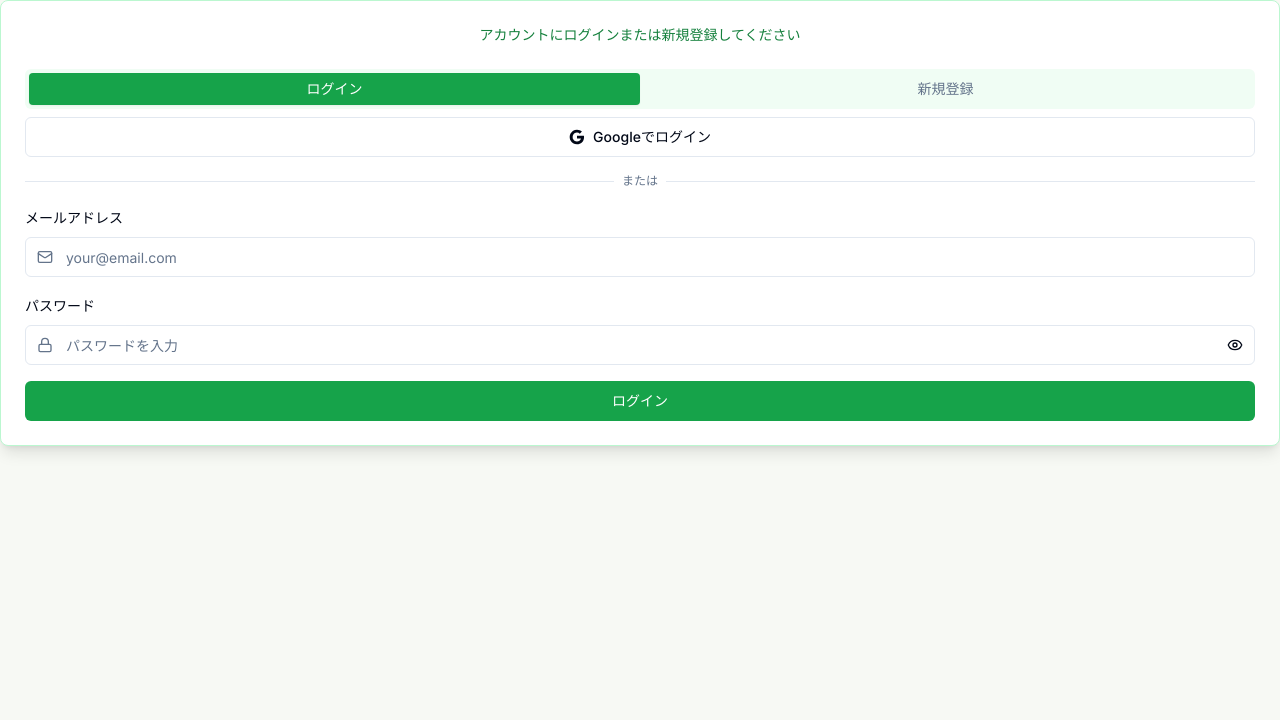
Scenario: 認証タブ詳細テスト › パスワード表示切り替えのテスト › 新規登録フォームのパスワード確認表示切り替えが正常に動作
The image size is (1280, 720).
Click the tab "新規登録". click: (946, 89)
box: 640,73 -> 1251,105
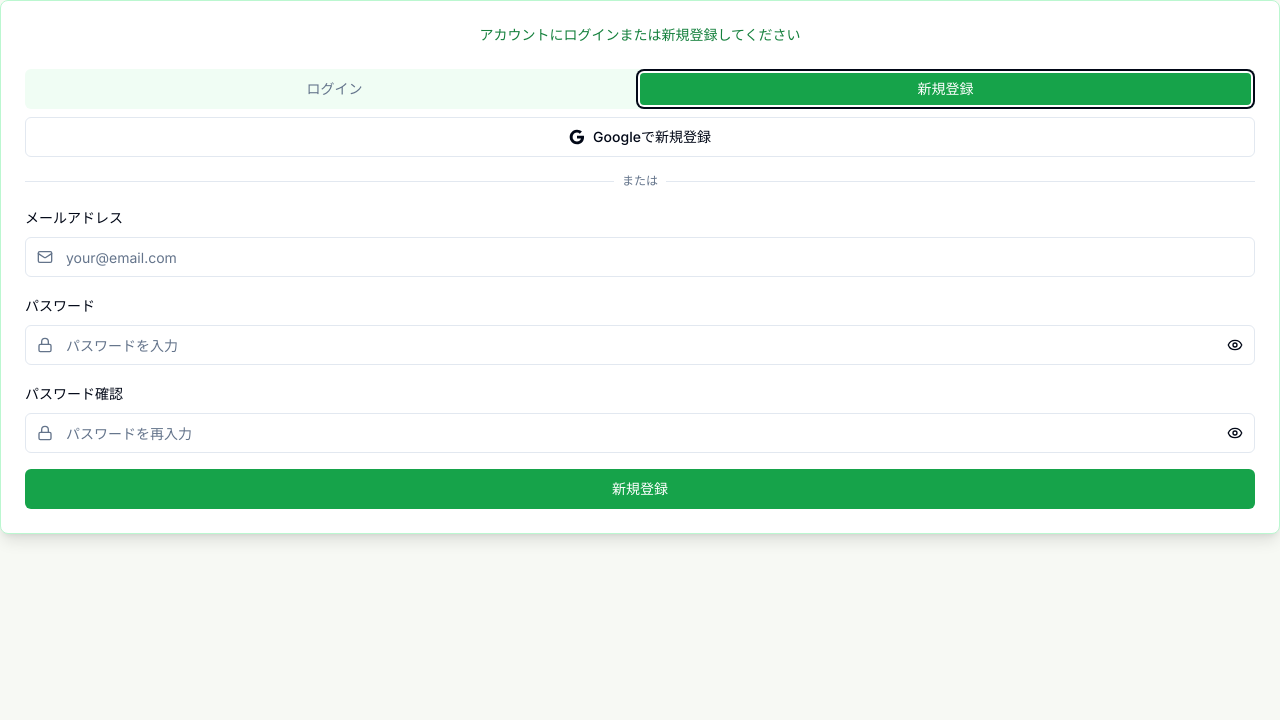
Expected: the password field labelled "パスワード確認" is shown
# パスワード確認を入力
Type "password123" into the password field labelled "パスワード確認". click: (640, 433)
box: 25,413 -> 1255,453
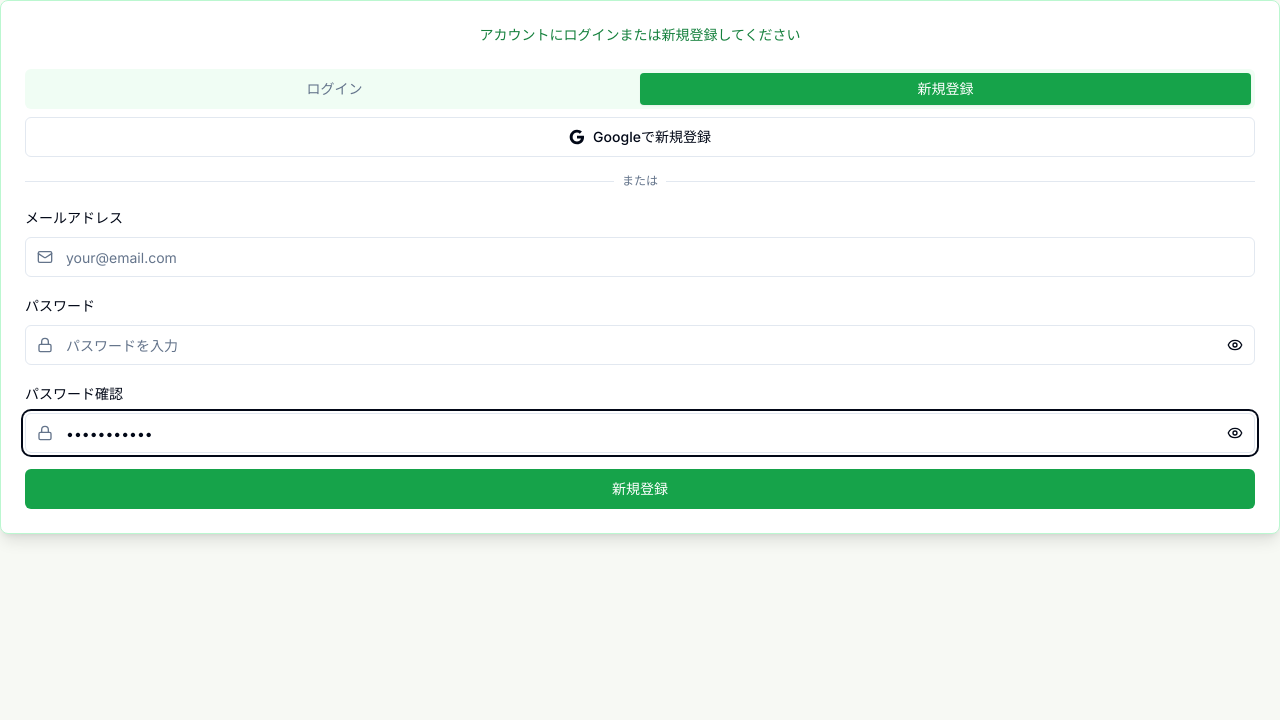
# 表示切り替えボタンをクリック
Click the 3rd button. click: (1235, 433)
box: 1215,413 -> 1255,453
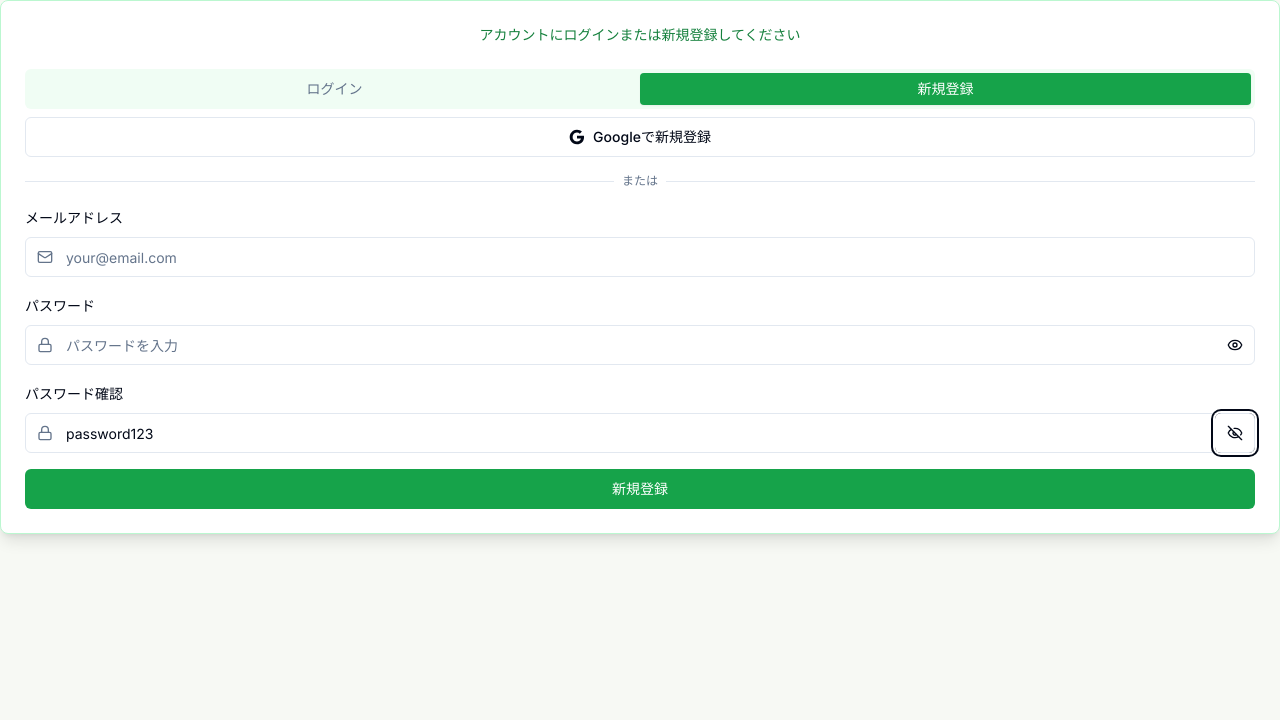
Expected: the field labelled "パスワード確認" shows its text, 25,413 -> 1255,453
